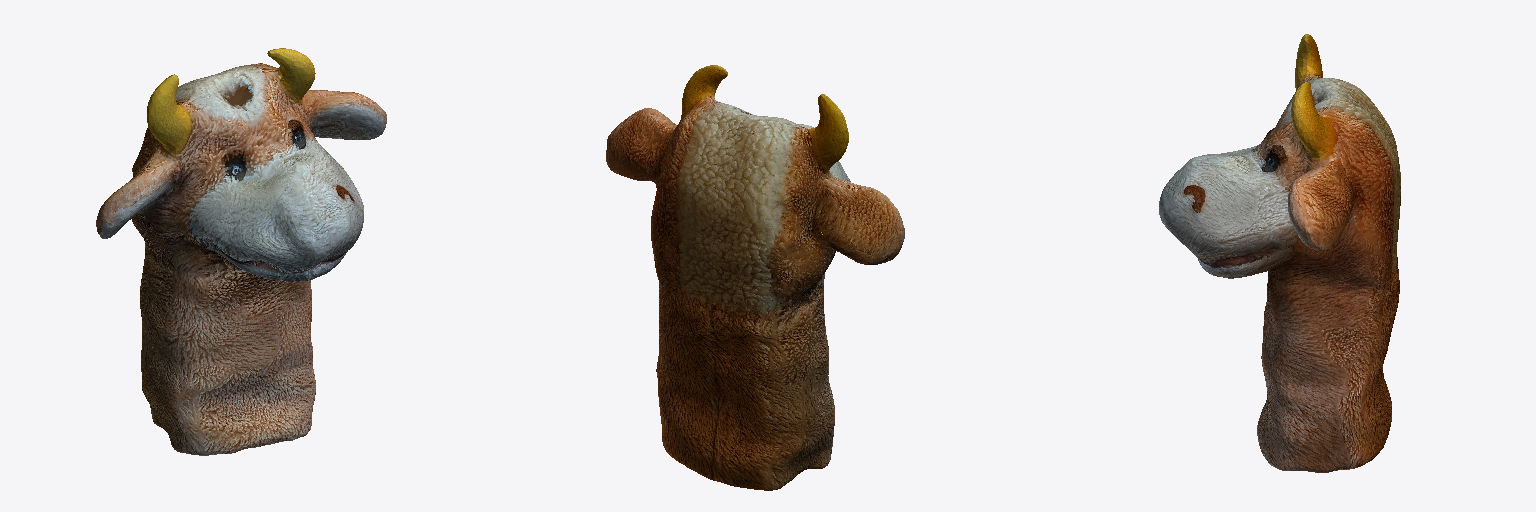
3 renders of one model, left to right at view 1: azimuth 30°, elevation 25°; view 2: azimuth 150°, elevation 25°; view 3: azimuth 270°, elevation 25°, orthographic.
Visible parts, largest first — view 1: Group_Global; view 2: Group_Global; view 3: Group_Global.
Boxes of the visible parts, x1=… form: Group_Global: x1=96, y1=48, x2=386, y2=455; Group_Global: x1=606, y1=65, x2=904, y2=490; Group_Global: x1=1159, y1=34, x2=1400, y2=472.
Bounding box in the file's own units: 2.87 × 3.57 × 2.08.
Materials: 1 (1 with a texture image).